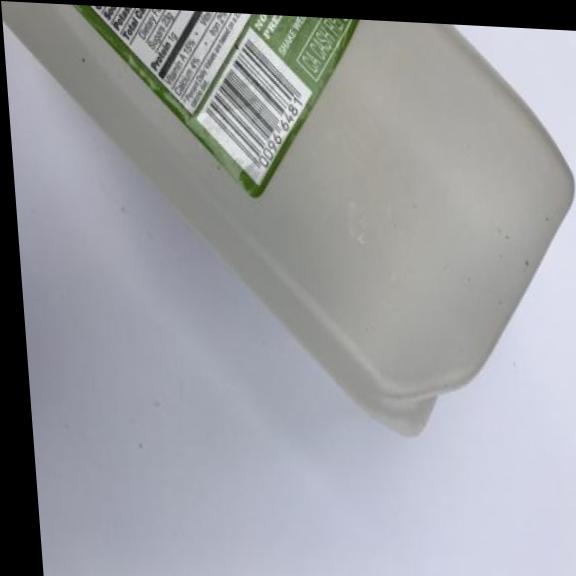Plastik: (1, 0, 576, 458)
